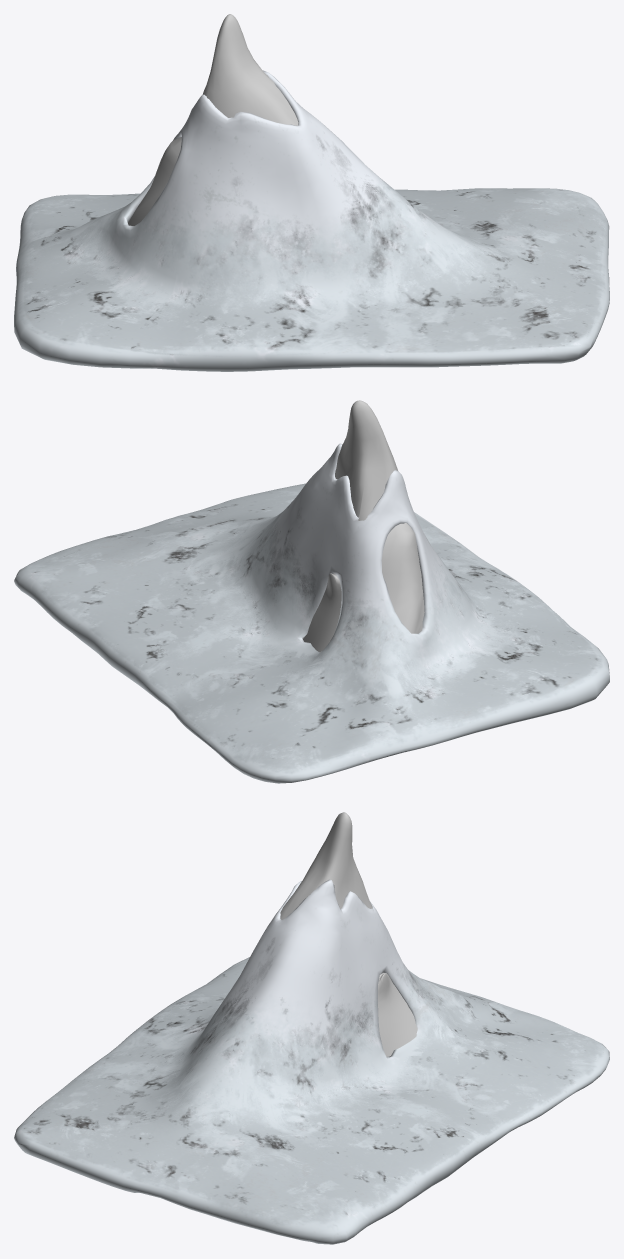
File: mountain 1.fbx
The picture shows the model from 3 angles, top to bottom: view 1: azimuth 30°, elevation 25°; view 2: azimuth 150°, elevation 25°; view 3: azimuth 270°, elevation 25°; orthographic projection. The views are drawn at different scales.
Parts seen in each view (by area): view 1: mntn1 snow, mountain1; view 2: mntn1 snow, mountain1; view 3: mntn1 snow, mountain1.
Part boxes in pixels (left/top/right/bottom): mntn1 snow: left=14, top=70, right=609, bottom=371; mountain1: left=128, top=14, right=298, bottom=225; mntn1 snow: left=14, top=443, right=609, bottom=783; mountain1: left=303, top=400, right=424, bottom=652; mntn1 snow: left=14, top=879, right=609, bottom=1244; mountain1: left=280, top=812, right=417, bottom=1056.
Bounding box in the file's own units: 226 × 106 × 209.
